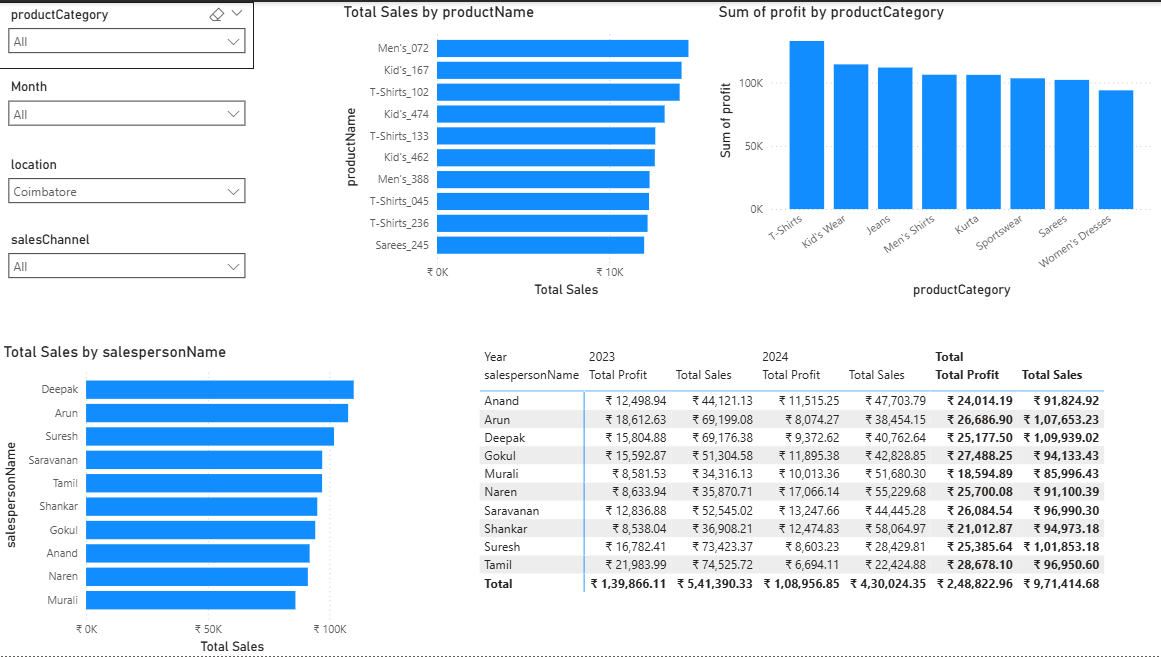

This screenshot's page, from the dashboard's own definition file:
{"tool":"powerbi","page":{"name":"Page 2","canvas":[1280,720],"ordinal":1},"visuals":[{"type":"slicer","fields":{"Values":["sales_data_updated.productCategory"]},"box":[0,0,280,74.3],"z":0},{"type":"slicer","fields":{"Values":["Calendar.Month"]},"box":[0,79,280,81.4],"z":1000},{"type":"slicer","fields":{"Values":["sales_data_updated.location"]},"box":[0,165.2,280,77.1],"z":2000},{"type":"slicer","fields":{"Values":["sales_data_updated.salesChannel"]},"box":[0,247.1,280,82.9],"z":3000},{"type":"clusteredBarChart","fields":{"Category":["sales_data_updated.productName"],"Y":["sales_data_updated.Total Sales"]},"box":[373.2,0,411.7,329.3],"z":4000},{"type":"clusteredColumnChart","fields":{"Category":["sales_data_updated.productCategory"],"Y":["Sum(sales_data_updated.profit)"]},"box":[784.9,0,485.8,329.3],"z":5000},{"type":"barChart","fields":{"Category":["sales_data_updated.salespersonName"],"Y":["sales_data_updated.Total Sales"]},"box":[0,373.2,440.5,347.2],"z":6000},{"type":"pivotTable","fields":{"Rows":["sales_data_updated.salespersonName"],"Columns":["Calendar.Year"],"Values":["sales_data_updated.Total Profit","sales_data_updated.Total Sales"]},"box":[522.8,373.2,757.5,347.2],"z":7000}]}

Visuals, with their boxes in screenshot pixels (x1, y1, x2, y2), scaled from the page's 1280x720 canvas onto the 1161x657 screenshot:
slicer - sales_data_updated.productCategory: bbox=[0, 0, 254, 68]
slicer - Calendar.Month: bbox=[0, 72, 254, 146]
slicer - sales_data_updated.location: bbox=[0, 151, 254, 221]
slicer - sales_data_updated.salesChannel: bbox=[0, 225, 254, 301]
clusteredBarChart - sales_data_updated.productName x sales_data_updated.Total Sales: bbox=[339, 0, 712, 300]
clusteredColumnChart - sales_data_updated.productCategory x Sum(sales_data_updated.profit): bbox=[712, 0, 1153, 300]
barChart - sales_data_updated.salespersonName x sales_data_updated.Total Sales: bbox=[0, 341, 400, 656]
pivotTable - sales_data_updated.salespersonName x Calendar.Year: bbox=[474, 341, 1160, 656]
